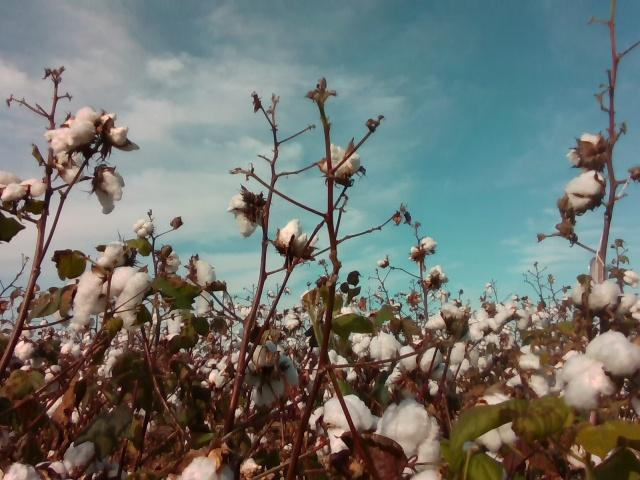cotton_ready: (555, 330, 640, 409), (377, 397, 440, 467), (43, 104, 107, 158), (108, 265, 151, 337), (323, 395, 372, 454), (68, 266, 107, 334), (476, 391, 519, 452), (571, 277, 640, 314), (251, 357, 299, 408), (400, 343, 453, 382), (49, 439, 103, 477), (273, 217, 320, 259), (351, 332, 400, 372), (566, 171, 607, 214), (0, 171, 50, 205), (94, 165, 127, 216), (228, 191, 263, 238), (103, 110, 140, 151), (324, 143, 361, 181), (567, 130, 604, 164), (177, 454, 219, 480), (250, 338, 281, 370), (91, 243, 130, 268), (58, 159, 86, 184), (0, 462, 35, 480), (308, 404, 327, 437), (195, 261, 218, 287), (439, 305, 469, 323), (163, 250, 182, 277), (13, 339, 35, 360), (133, 219, 155, 239), (409, 467, 442, 480)
